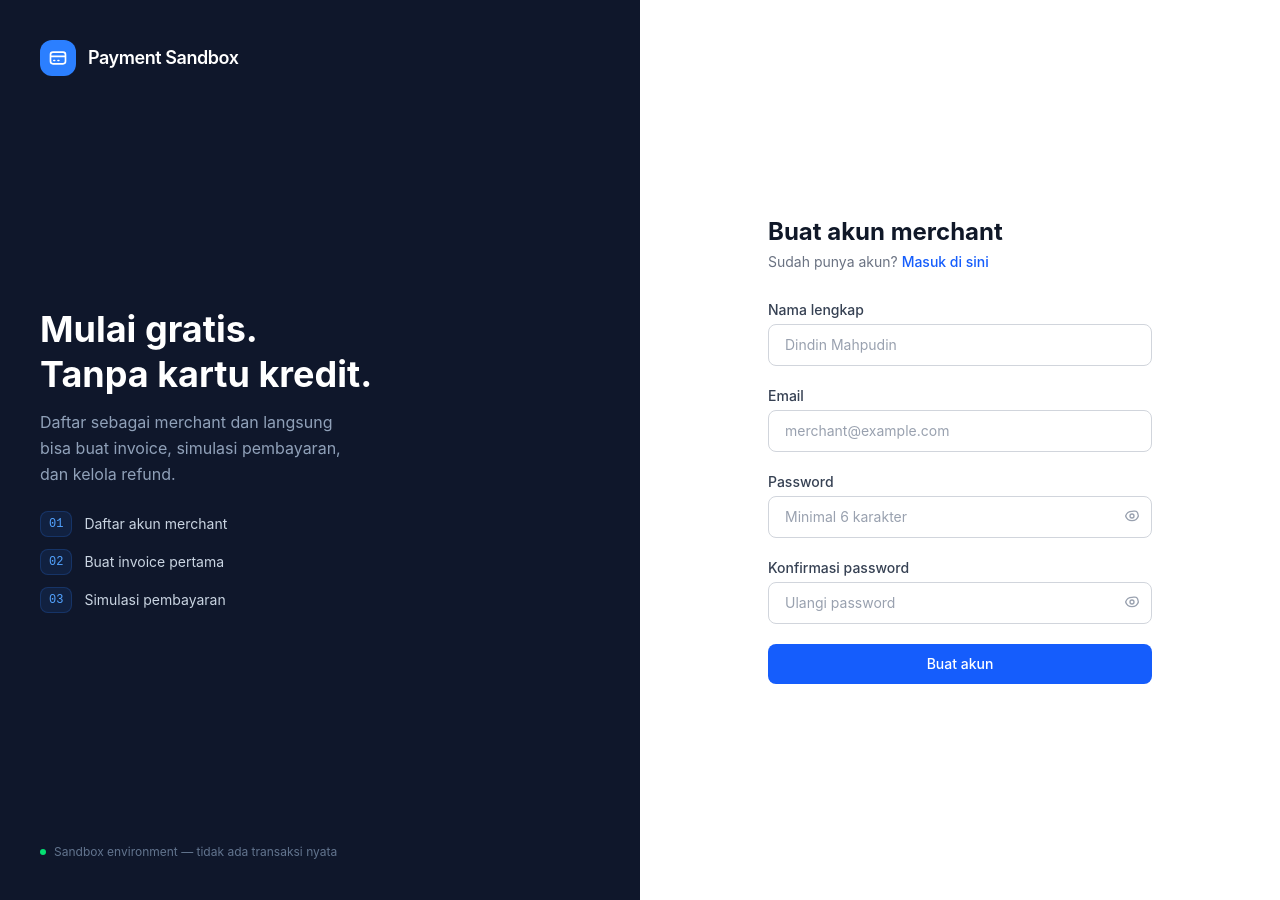
Test: RegisterPage › shows error when passwords do not match
Type "password123" into the password field labelled "Password".
click(960, 517); type("password123")  # box [768,496,1152,538]
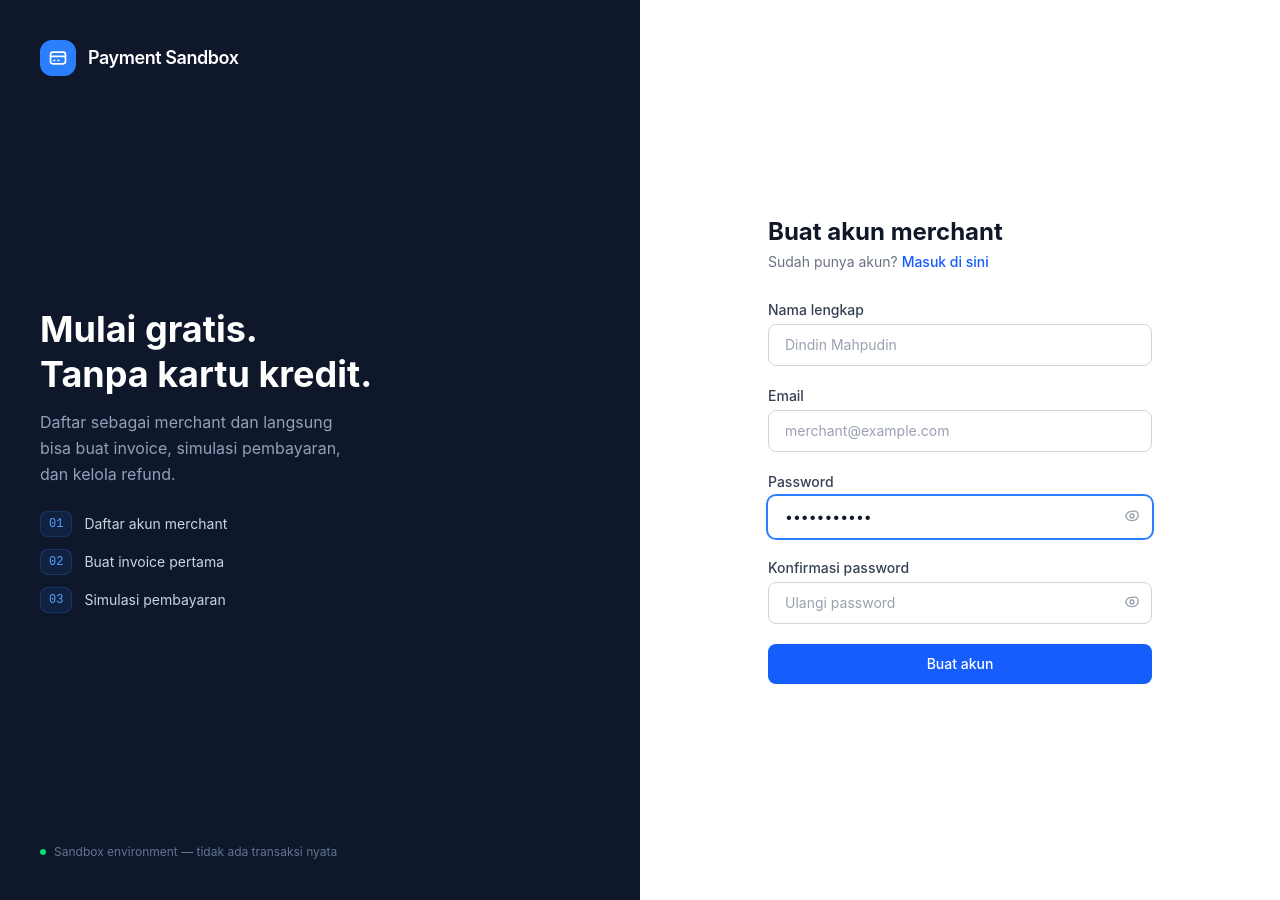
Type "password999" into the password field labelled "Konfirmasi password".
click(960, 603); type("password999")  # box [768,582,1152,624]
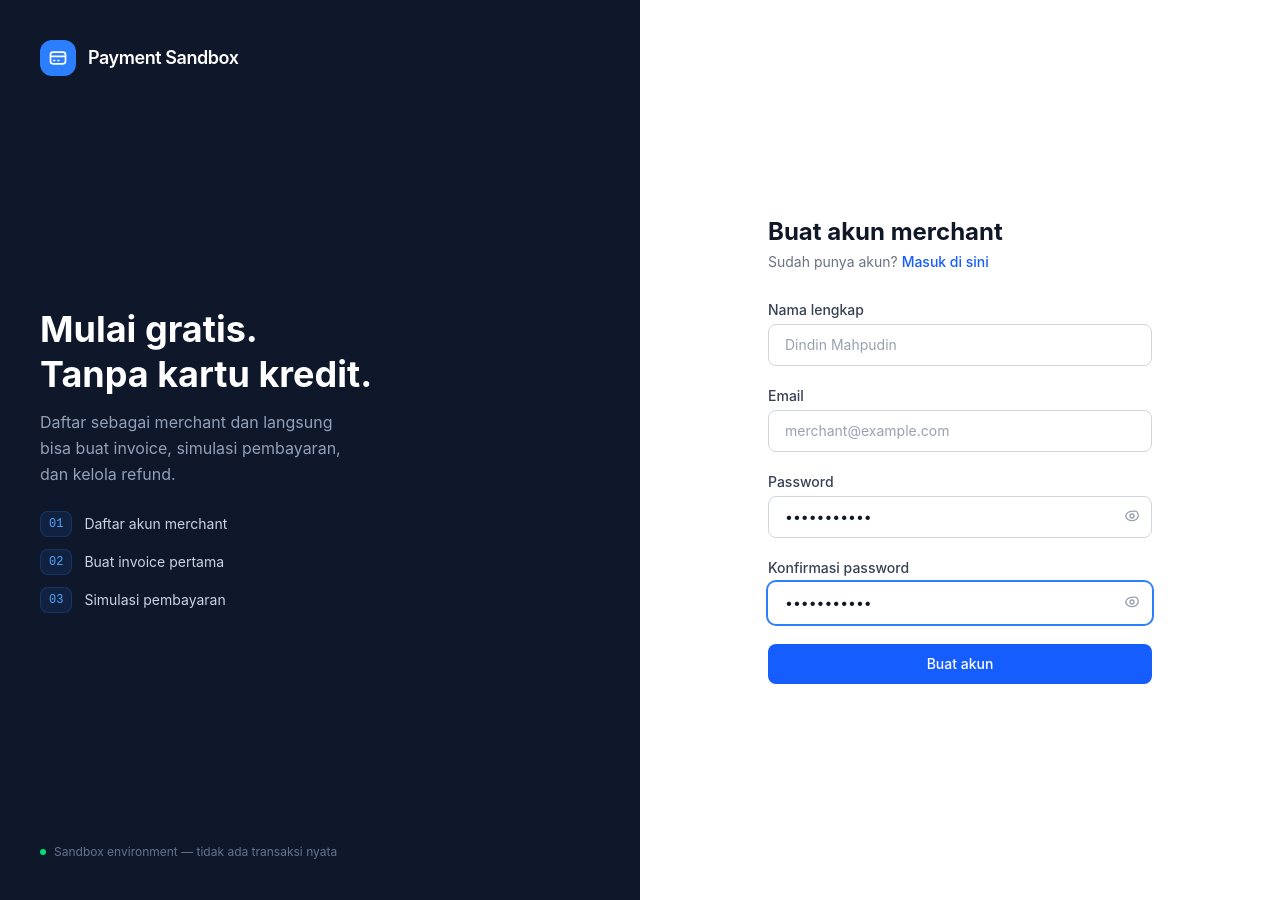
Click the button "Buat akun".
click(960, 664)  # box [768,644,1152,684]
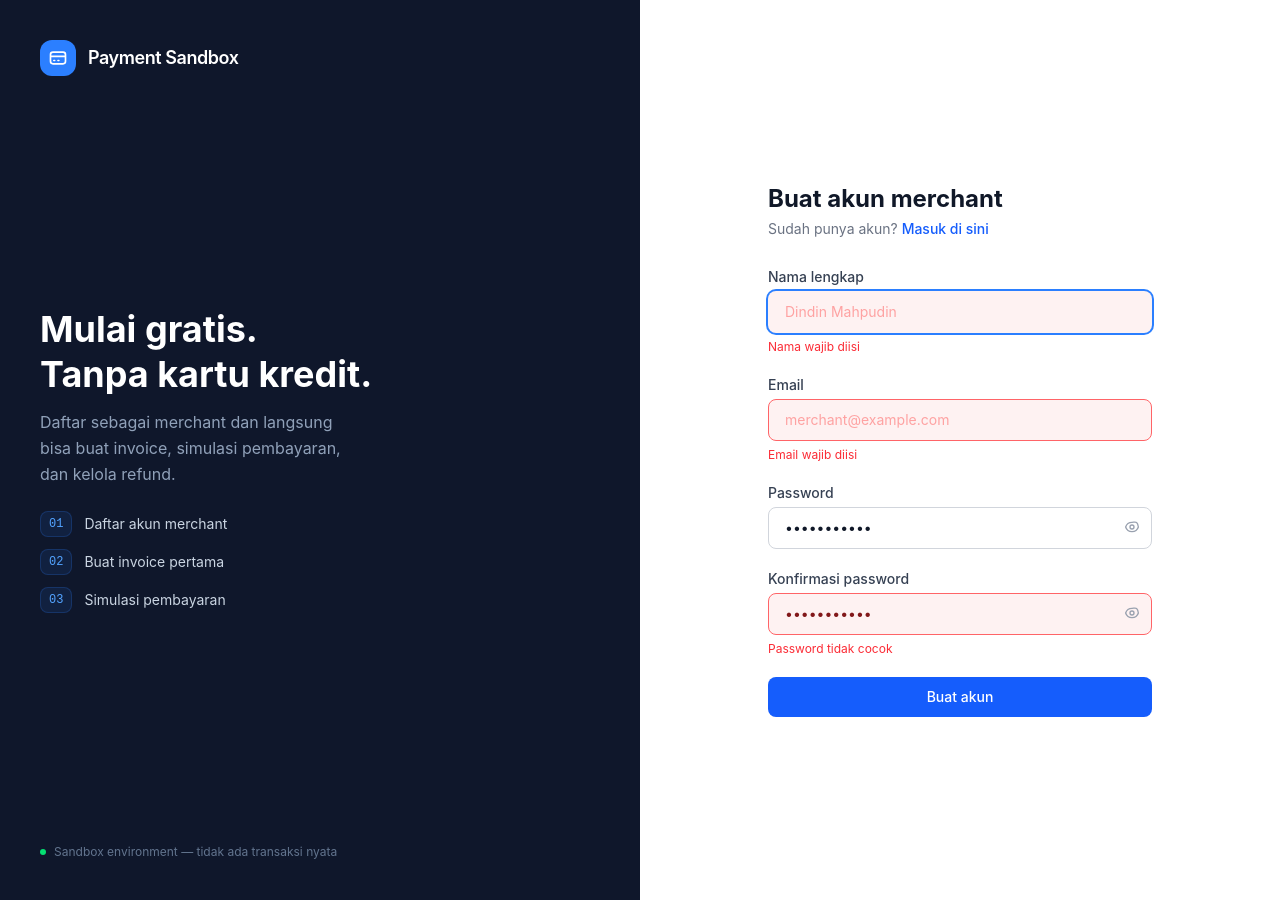
expect the text "Password tidak cocok" is shown: met, box [768,641,892,656]
